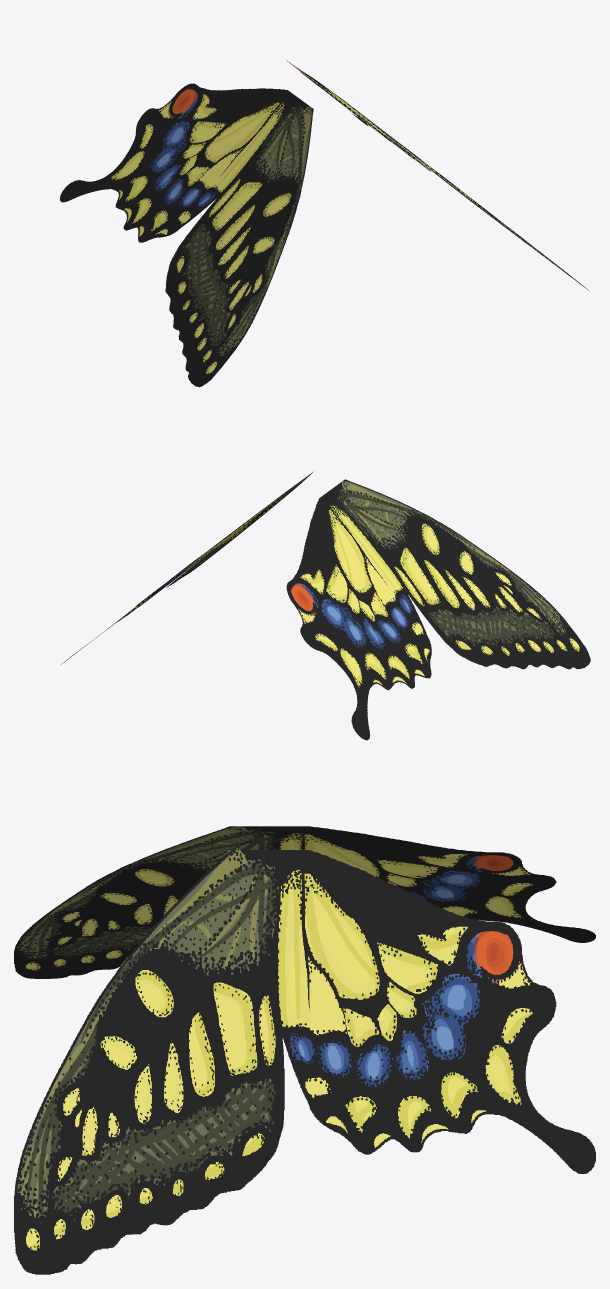
The model's file is wings2.glb.
3 renders of one model, top to bottom at view 1: azimuth 30°, elevation 25°; view 2: azimuth 150°, elevation 25°; view 3: azimuth 270°, elevation 25°, orthographic. The views are drawn at different scales.
Parts seen in each view (by area): view 1: image.001; view 2: image.001; view 3: image.001.
Boxes of the visible parts, left/top/right/bottom form: image.001: left=60, top=60, right=588, bottom=387; image.001: left=61, top=471, right=590, bottom=740; image.001: left=14, top=826, right=595, bottom=1274.
Bounding box in the file's own units: 1.04 × 0.4725 × 0.8636.
Materials: 1 (1 with a texture image).
